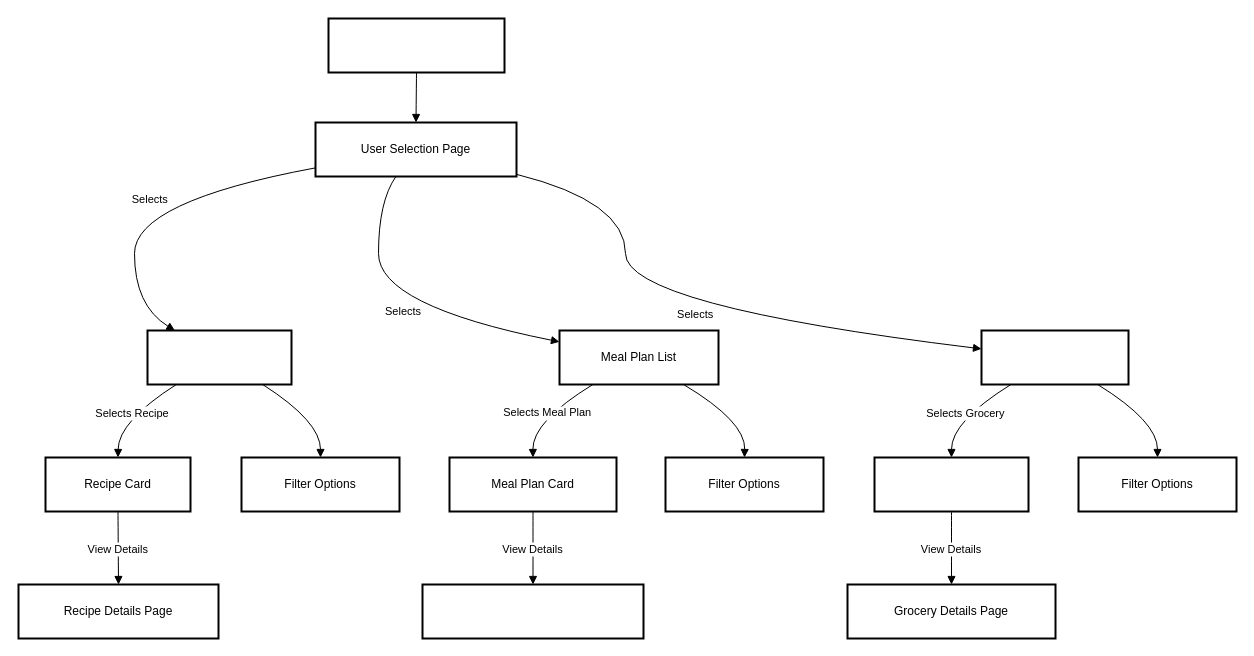
This 1254x656 diagram has some shape labels left out. Each missing label, with the centre of its shape:
"Grocery Card" goes at (951,484).
"Grocery List" goes at (1054,357).
"Meal Plan Details Page" goes at (532,611).
"Recipes List" goes at (219,357).
"User Interaction" goes at (416,45).
